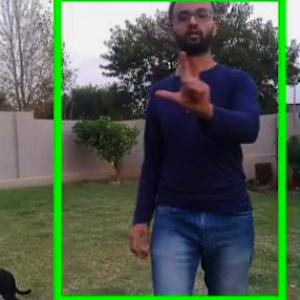land_hand: (153, 40, 215, 114)
